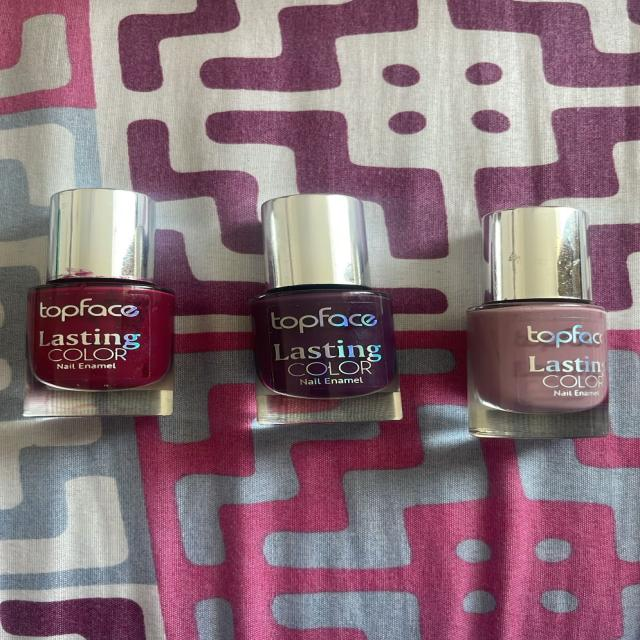nail polish: (0, 166, 203, 434), (226, 177, 429, 439), (451, 184, 629, 456)
